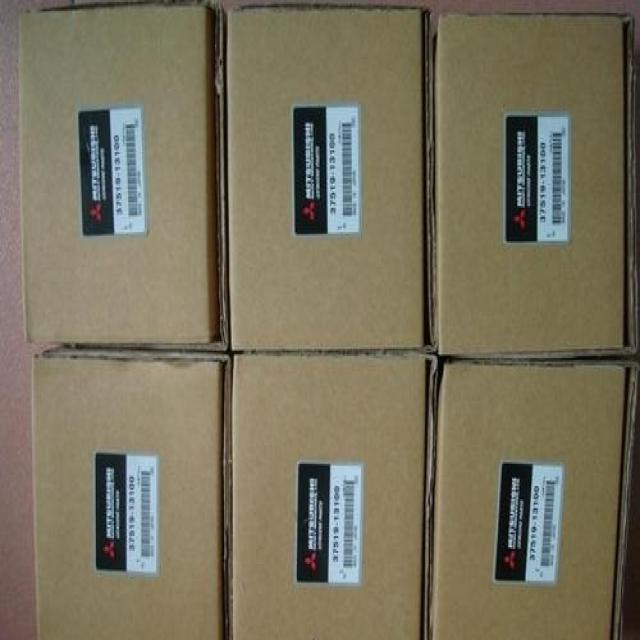box: (221, 7, 432, 352), (19, 3, 227, 352), (430, 14, 638, 355), (227, 350, 439, 638), (428, 351, 638, 638), (34, 343, 232, 638)
